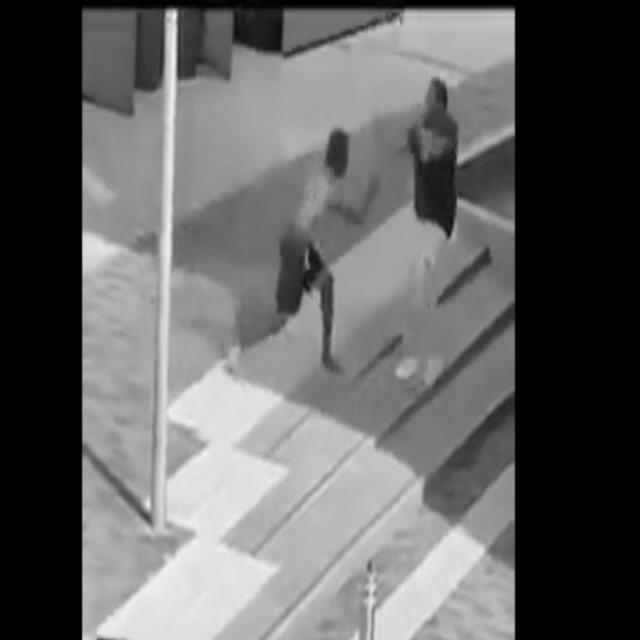weapon: (361, 167, 383, 211), (374, 108, 385, 136)
